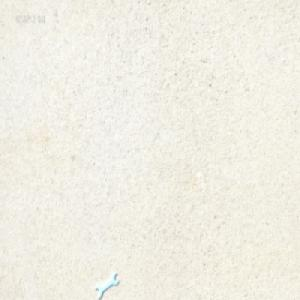Wrench: (95, 271, 119, 299)
